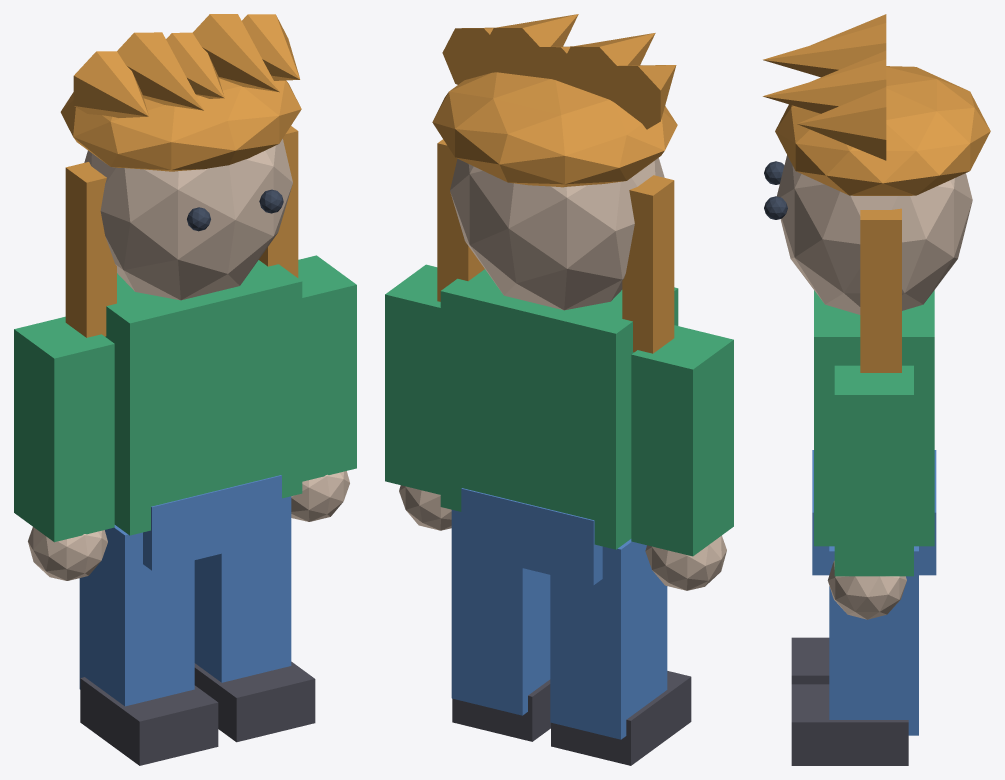
File: nami.glb
3 renders of one model, left to right at view 1: azimuth 30°, elevation 25°; view 2: azimuth 150°, elevation 25°; view 3: azimuth 270°, elevation 25°, orthographic. The views are drawn at different scales.
Visible parts, largest first — view 1: part_000, part_010, part_002, part_004, part_013, part_008, part_006, part_001, part_005, part_019, part_009, part_014 (+7 smaller); view 2: part_000, part_002, part_010, part_013, part_004, part_008, part_006, part_001, part_019, part_005, part_020, part_015 (+7 smaller); view 3: part_006, part_010, part_013, part_000, part_008, part_020, part_009, part_018, part_015, part_017, part_007, part_005 (+2 smaller).
Boxes of the visible parts, x1,y1,x2,y2 form: part_000: (105, 260, 302, 535); part_010: (84, 139, 292, 300); part_002: (14, 316, 114, 542); part_004: (79, 525, 194, 706); part_013: (60, 78, 301, 171); part_008: (194, 496, 291, 682); part_006: (298, 255, 356, 481); part_001: (143, 475, 281, 570); part_005: (80, 677, 218, 765); part_019: (65, 162, 116, 337); part_009: (194, 661, 315, 742); part_014: (73, 51, 148, 117); part_000: (440, 269, 678, 549); part_002: (631, 325, 733, 556); part_010: (450, 158, 664, 310); part_013: (432, 72, 677, 187); part_004: (550, 539, 667, 739); part_008: (451, 510, 550, 715); part_006: (385, 264, 440, 494); part_001: (461, 488, 602, 585); part_019: (622, 175, 674, 353); part_005: (551, 671, 691, 765); part_020: (437, 139, 484, 301); part_015: (558, 33, 655, 103); part_006: (834, 365, 913, 576); part_010: (777, 155, 972, 314); part_013: (775, 66, 990, 195); part_000: (814, 290, 934, 546); part_008: (829, 546, 918, 735); part_020: (860, 208, 901, 372); part_009: (791, 684, 908, 765); part_018: (797, 87, 886, 160); part_015: (763, 23, 886, 77); part_017: (763, 59, 886, 113); part_007: (827, 561, 906, 619); part_005: (791, 637, 829, 684).
Size of the model in its own units: 1.03 by 2.17 by 0.6628.
